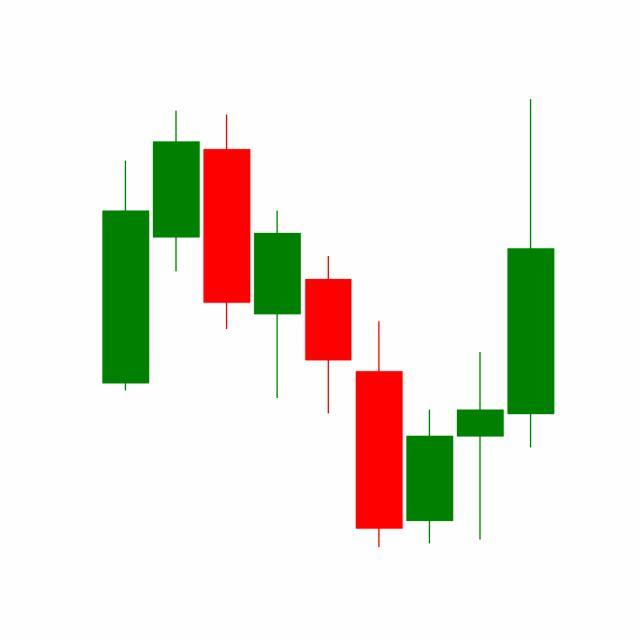Hikkake Pattern: (252, 206, 506, 548)
